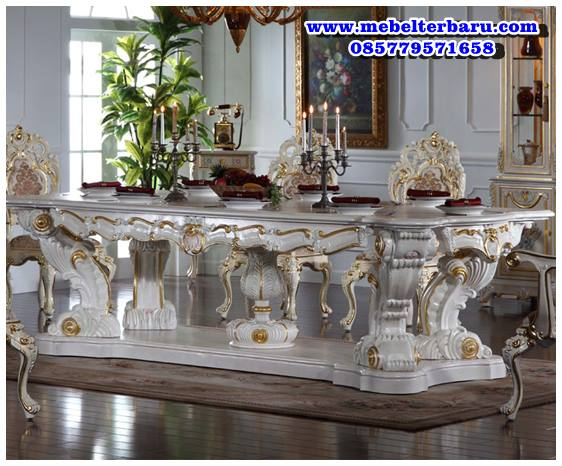Carving Table: (19, 177, 526, 403)
